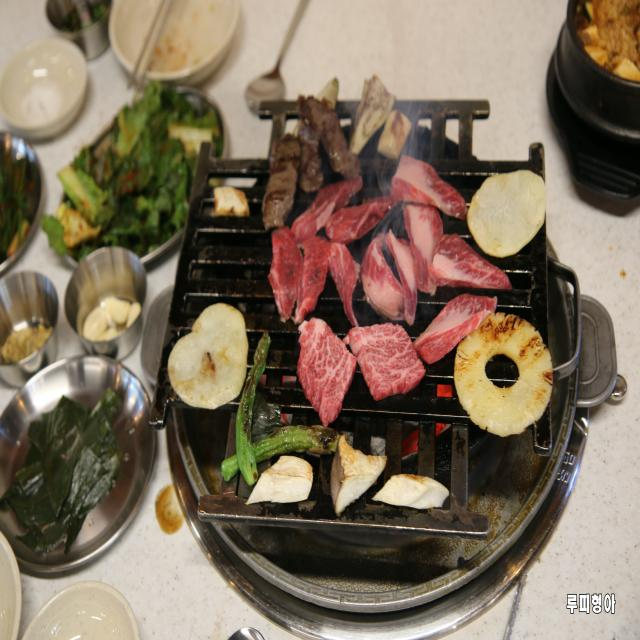beef: (362, 327, 408, 386), (309, 334, 346, 399)
